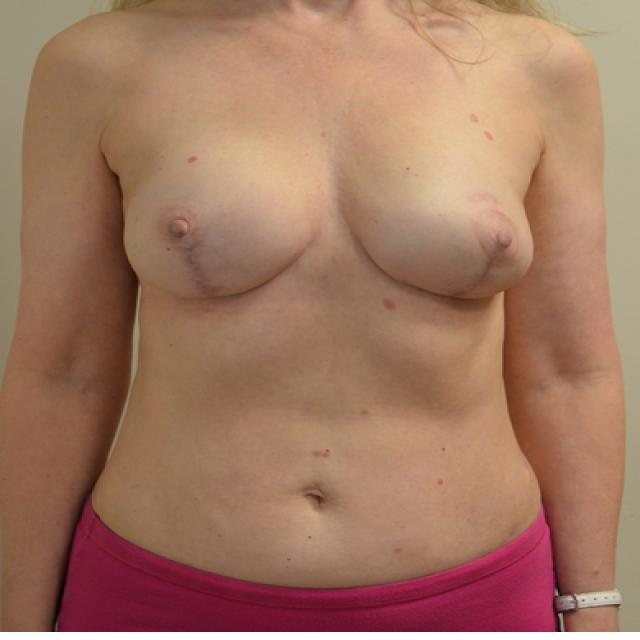Seno herido: (115, 146, 326, 314), (337, 146, 541, 313)
